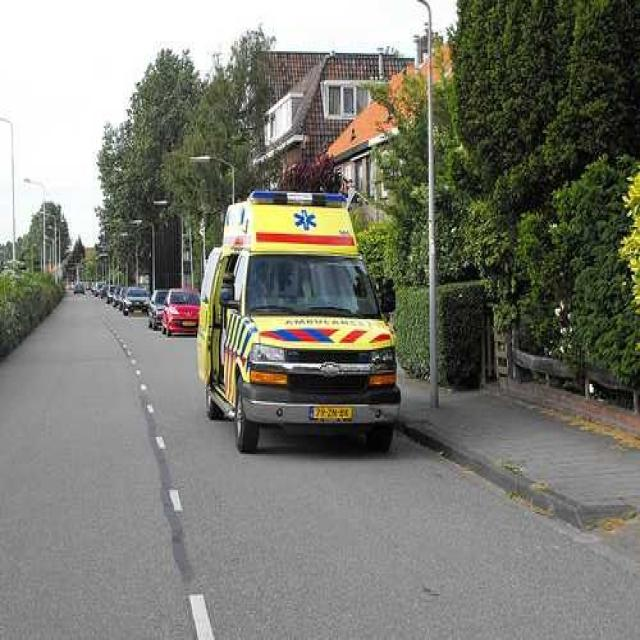ambulance: (203, 171, 426, 455)
